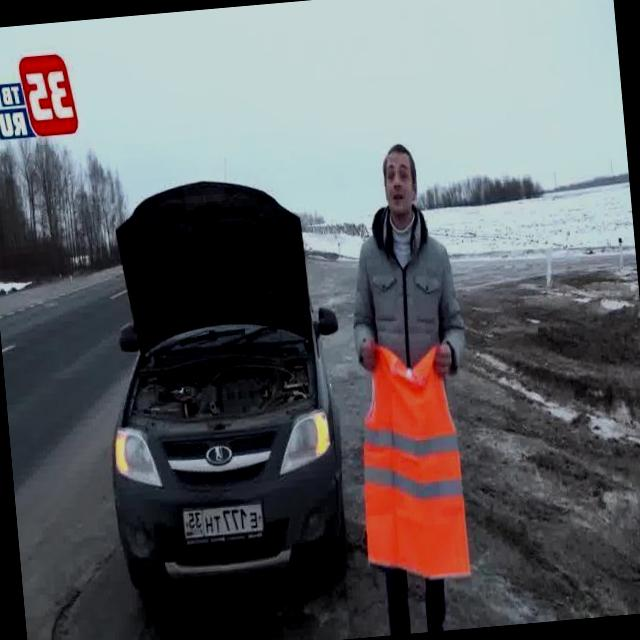no-gloves: (426, 337, 457, 378), (356, 340, 376, 373)
no-helmet: (371, 140, 428, 218)
no-vest: (354, 214, 453, 344)
vest: (346, 328, 473, 589)
